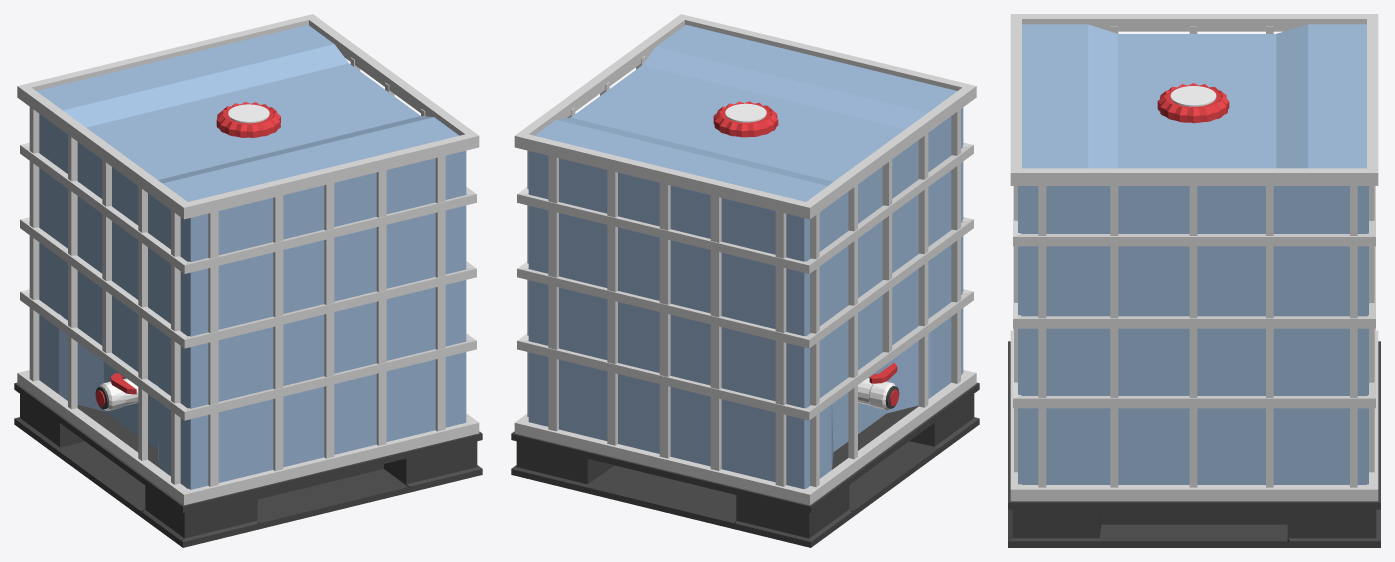
File: water_tank.glb
3 renders of one model, left to right at view 1: azimuth 30°, elevation 25°; view 2: azimuth 150°, elevation 25°; view 3: azimuth 270°, elevation 25°, orthographic. The views are drawn at different scales.
Parts seen in each view (by area): view 1: Water Tank; view 2: Water Tank; view 3: Water Tank.
Boxes of the visible parts, x1=… form: Water Tank: x1=14, y1=14, x2=482, y2=547; Water Tank: x1=511, y1=14, x2=979, y2=547; Water Tank: x1=1008, y1=14, x2=1380, y2=547.
Size of the model in its own units: 1.32 by 1.42 by 1.28.
